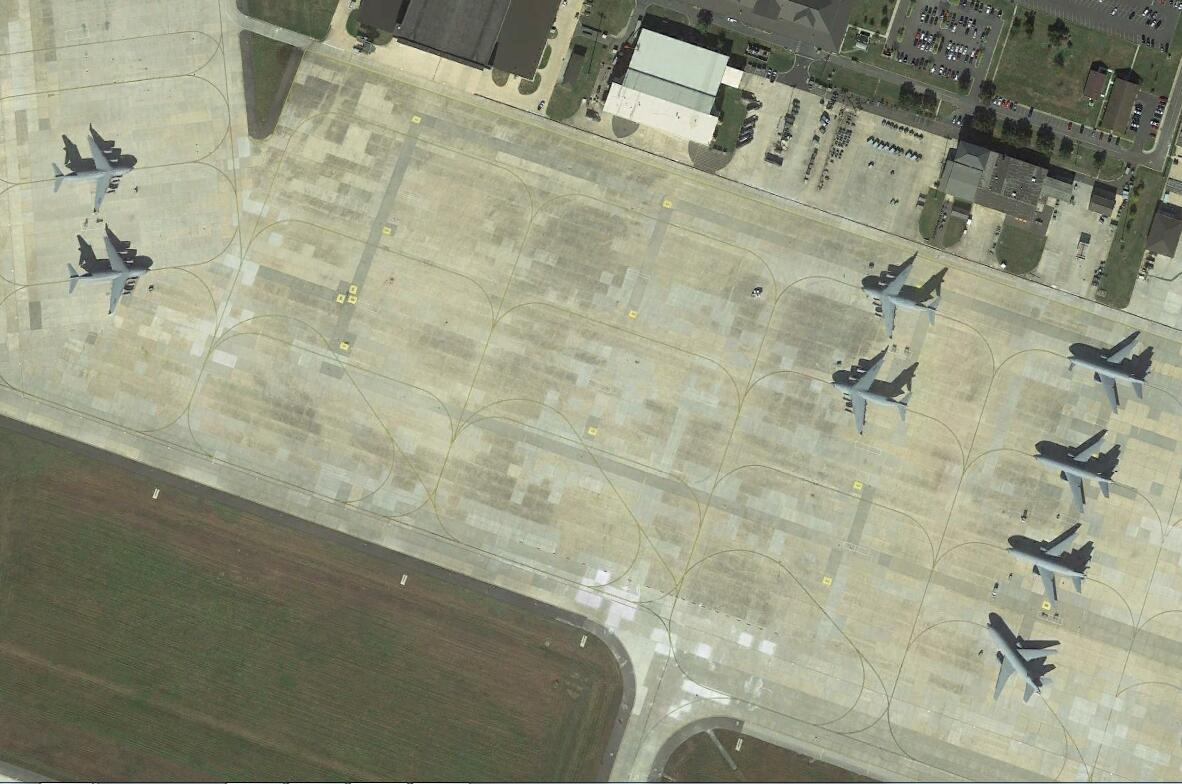A18: (1067, 324, 1157, 414), (1035, 428, 1124, 518), (1003, 525, 1097, 608), (978, 615, 1059, 708)
A3: (51, 128, 139, 219), (862, 253, 950, 341), (831, 350, 919, 437), (66, 235, 158, 316)
